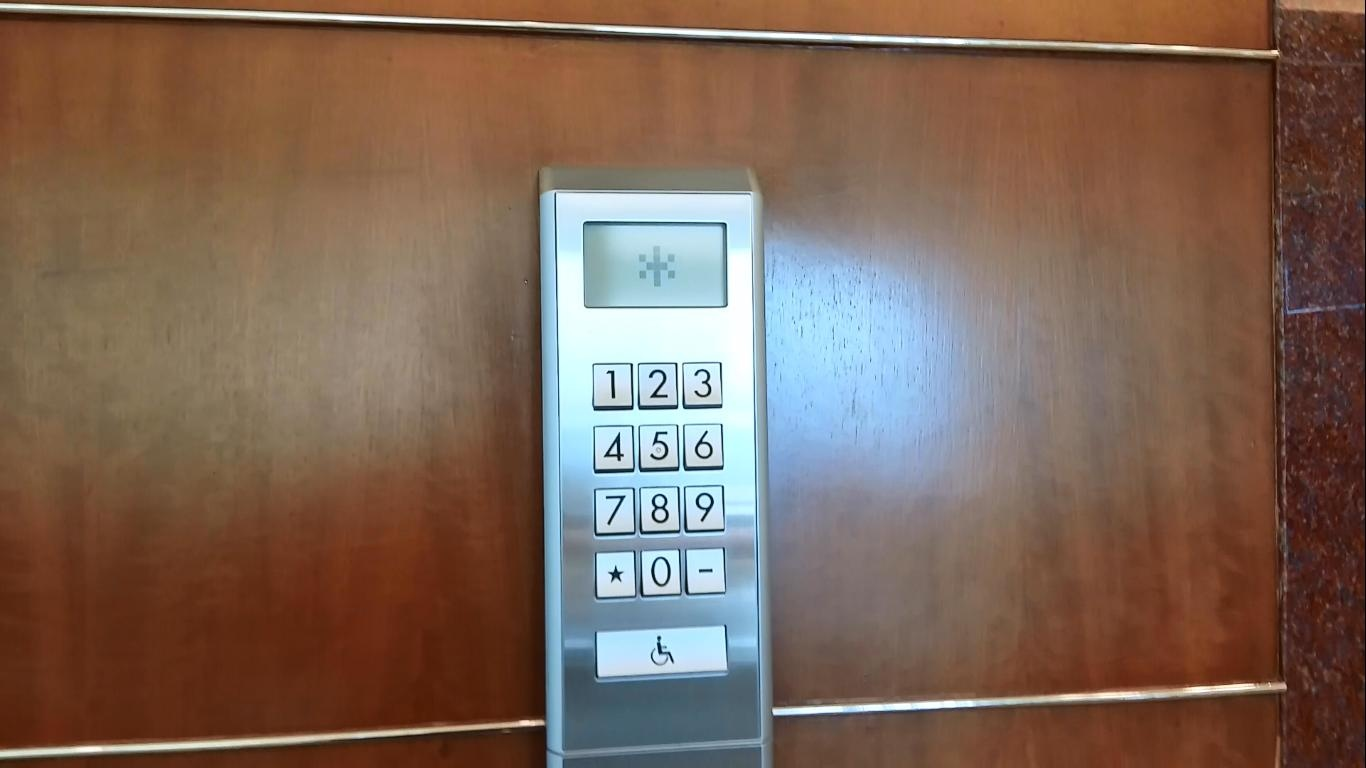-: (682, 545, 728, 599)
0: (637, 545, 683, 599)
1: (590, 360, 634, 412)
2: (635, 360, 679, 412)
3: (680, 359, 724, 411)
4: (680, 420, 726, 474)
5: (634, 422, 680, 476)
6: (590, 422, 636, 476)
7: (592, 484, 638, 538)
8: (635, 484, 681, 538)
9: (681, 481, 727, 535)
CH: (591, 621, 731, 685)
led: (580, 218, 730, 311)
s: (591, 548, 637, 602)
